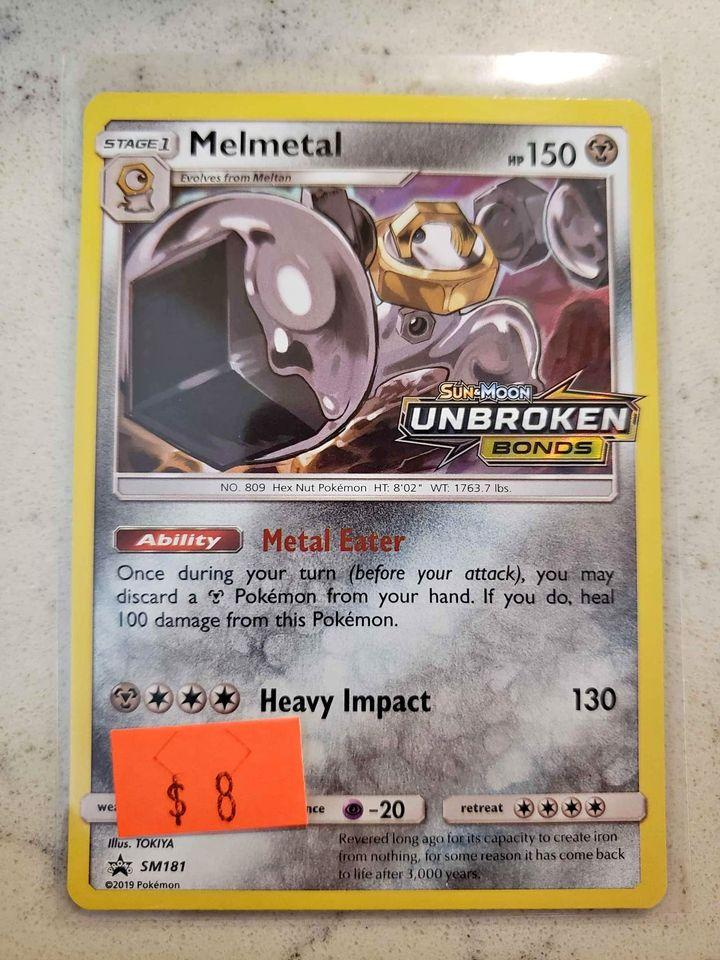card: (62, 89, 670, 913)
